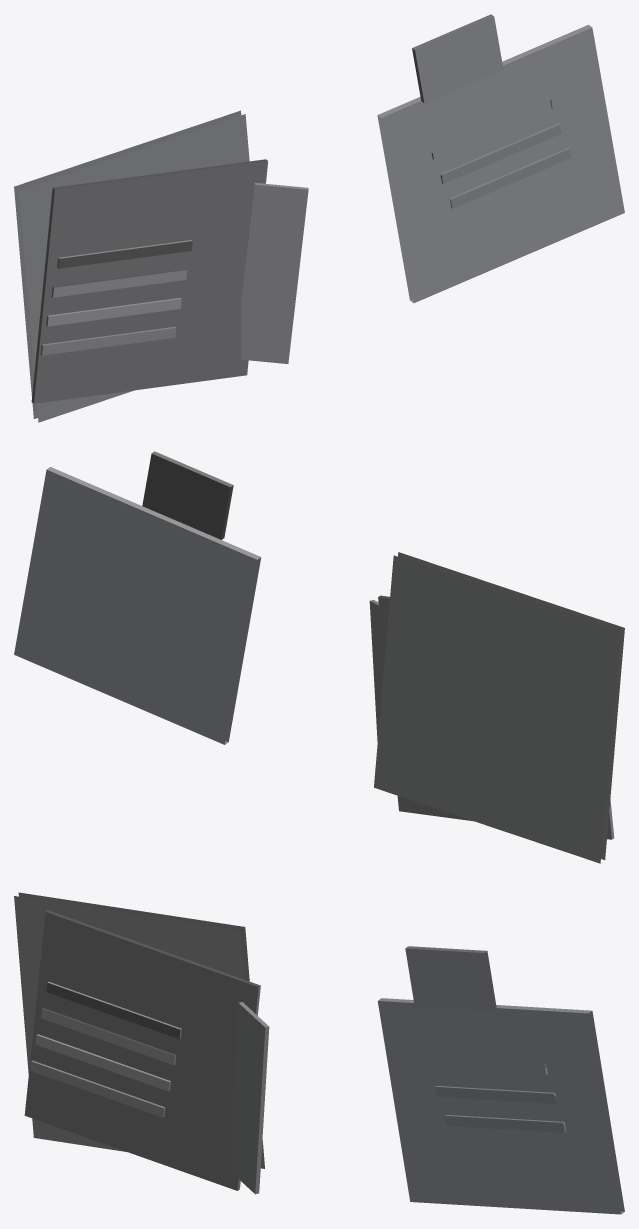
The picture shows the model from 3 angles, top to bottom: view 1: azimuth 30°, elevation 25°; view 2: azimuth 150°, elevation 25°; view 3: azimuth 330°, elevation 25°; orthographic projection.
Bounding box in the file's own units: 0.906 × 0.4257 × 0.0615.
